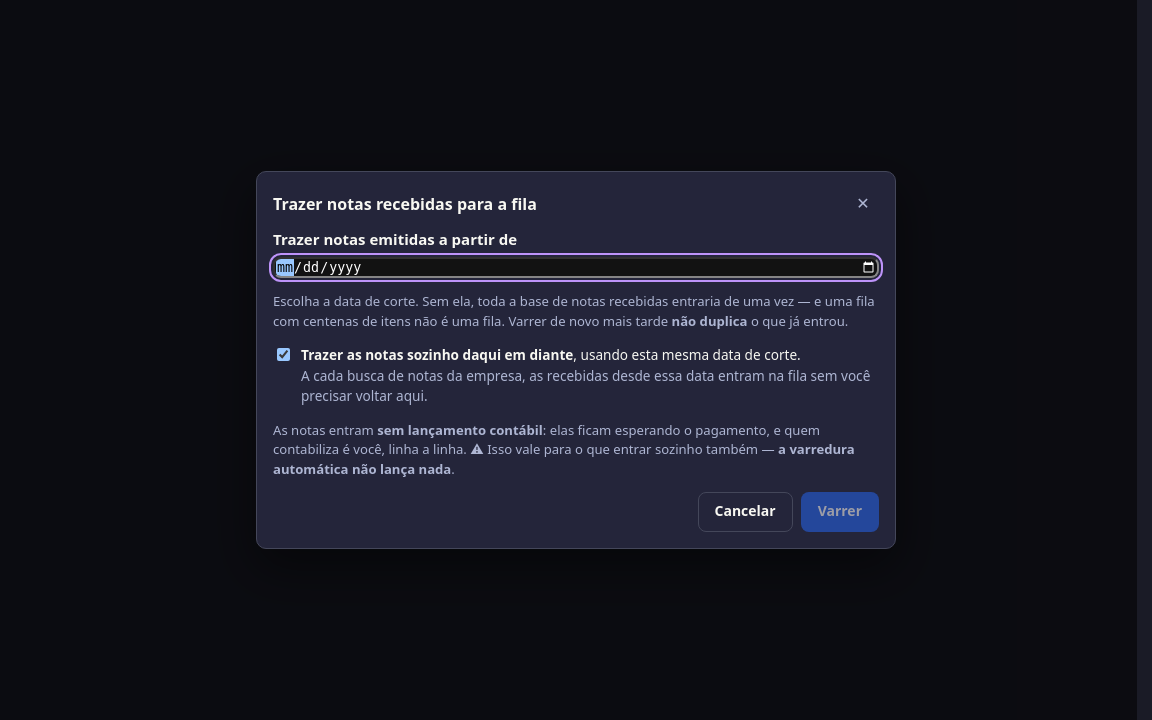
Test case: ⚠⚠ A VARREDURA — a data-piso não nasce preenchida › com data válida, varre e mostra o relatório INTEIRO
The image size is (1152, 720).
Click the checkbox labelled "sozinho daqui em diante" at (284, 355), box [277,348,290,362]
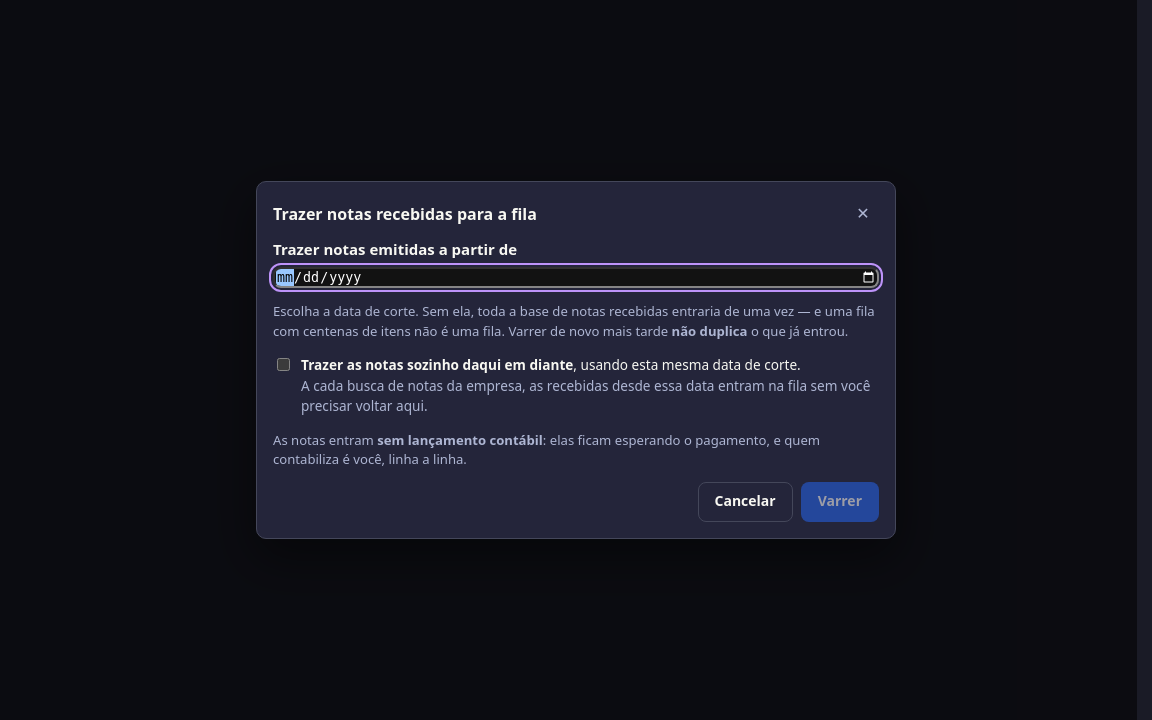
Type "2026-07-01" into the date field labelled "Trazer notas emitidas a partir de" at (576, 277), box [273,267,879,288]
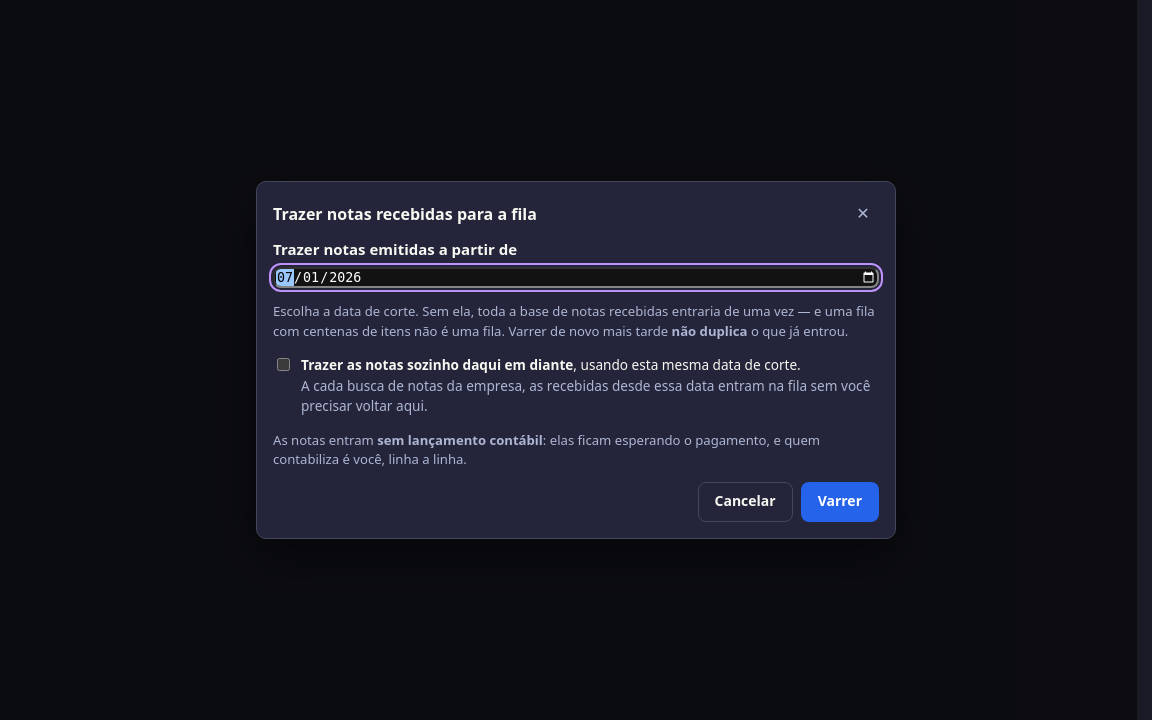
Click the button "Varrer" at (840, 502), box [801,482,879,522]
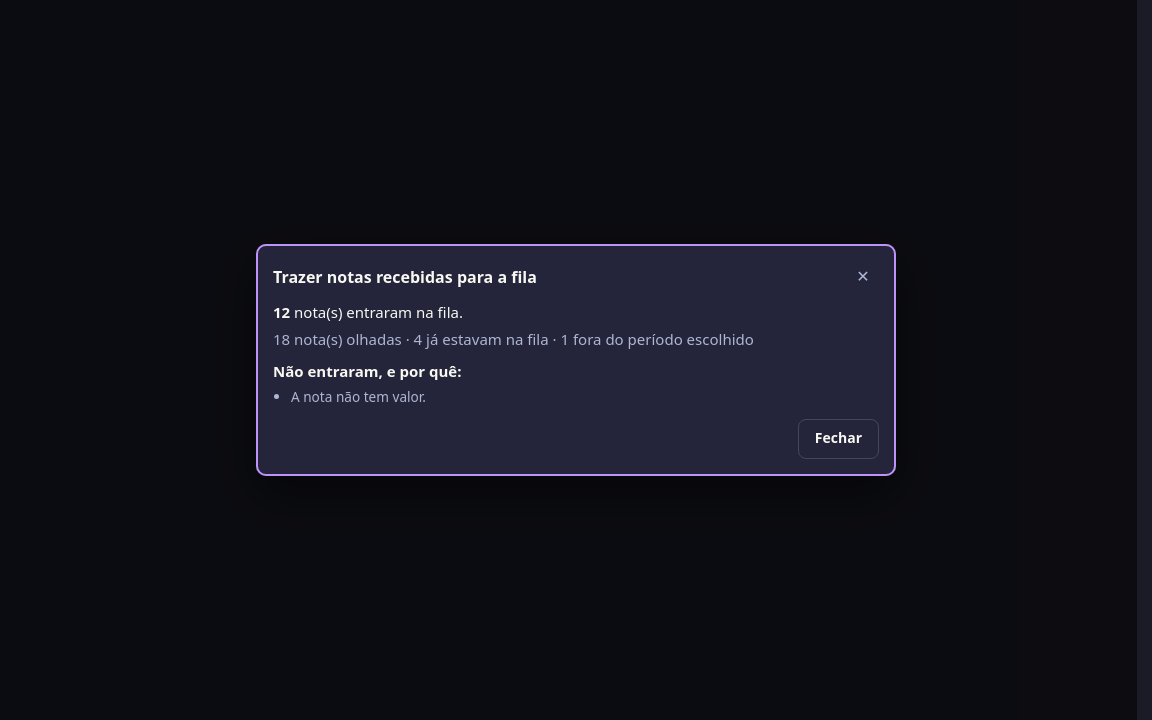
Result: the text "12" is shown at [273,302,290,322]
Result: the text "4 já estavam na fila" is shown at [273,328,754,348]
Result: the list item "A nota não tem valor." is shown at [291,386,426,406]
